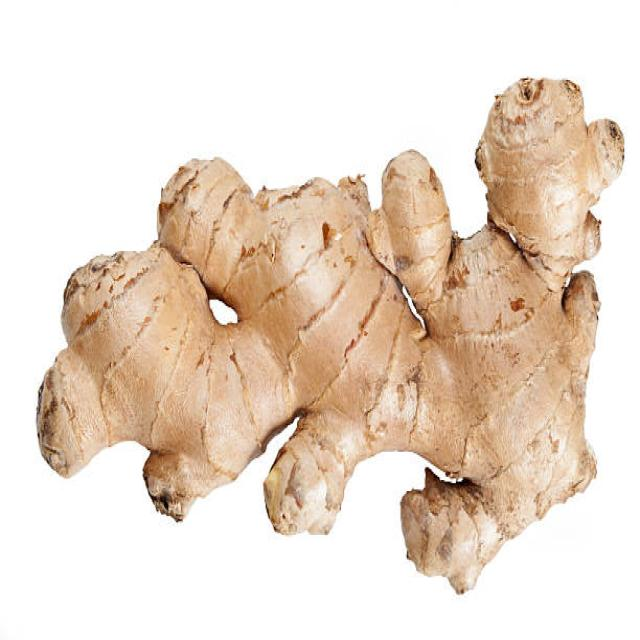ginger-root: (26, 68, 634, 605)
